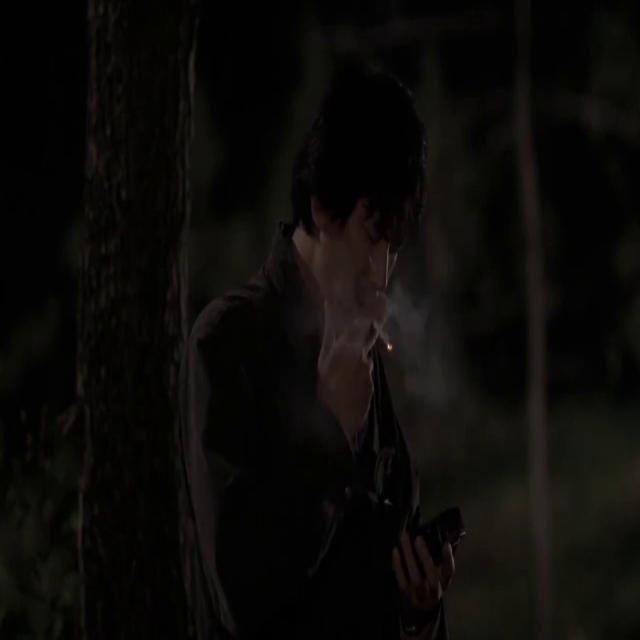Smooking: (368, 313, 398, 365)
